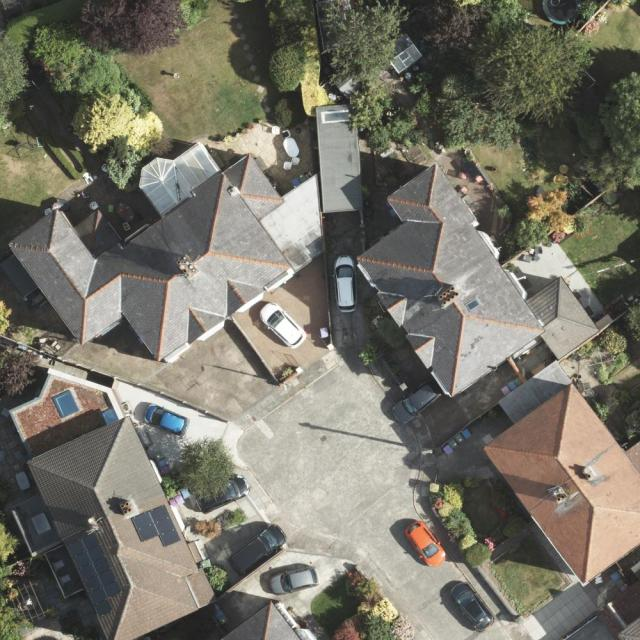roof: (9, 106, 358, 365), (356, 162, 603, 403), (10, 368, 217, 640), (484, 360, 640, 588), (596, 577, 640, 640)
skylight: (51, 387, 83, 423), (31, 512, 54, 536), (464, 295, 484, 315), (100, 407, 119, 426), (52, 557, 66, 572), (57, 573, 71, 585)
solar: (68, 531, 123, 618), (131, 502, 182, 548)
